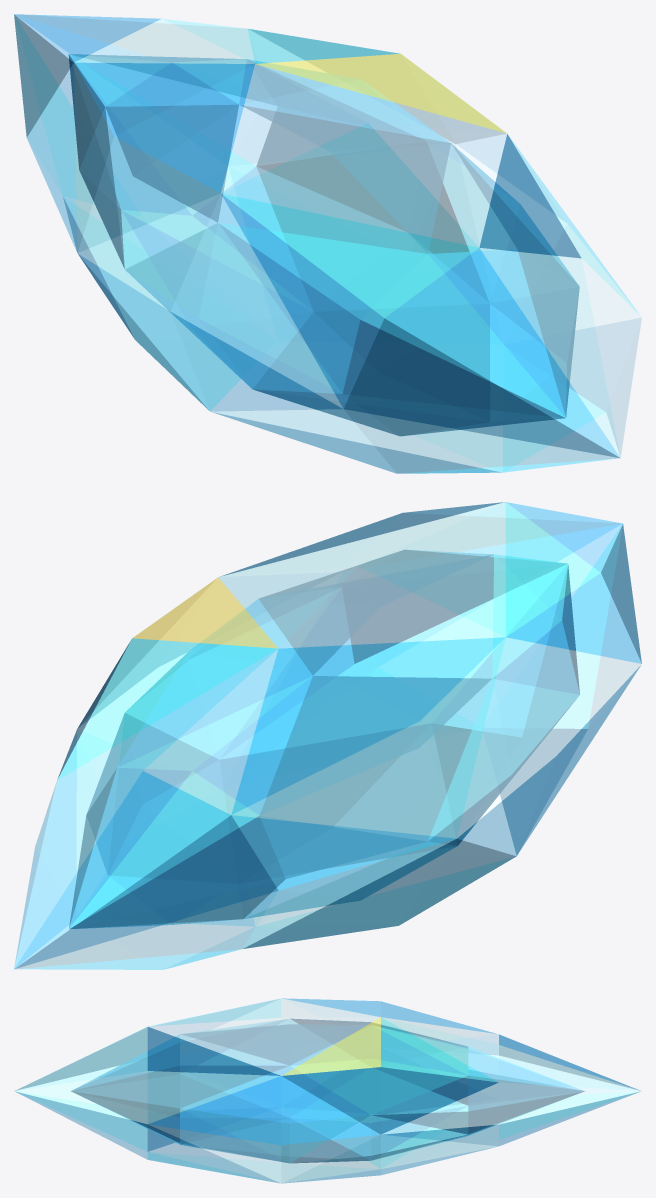
File: lya-crystal.glb
3 views of the same model, one above another, from view 1: azimuth 30°, elevation 25°; view 2: azimuth 150°, elevation 25°; view 3: azimuth 270°, elevation 25° (orthographic). The views are drawn at different scales.
Parts seen in each view (by area): view 1: LYA Crystal; view 2: LYA Crystal; view 3: LYA Crystal.
Part boxes in pixels (left/top/right/bottom): LYA Crystal: left=14, top=14, right=641, bottom=473; LYA Crystal: left=14, top=502, right=641, bottom=969; LYA Crystal: left=14, top=998, right=641, bottom=1183.
Bounding box in the file's own units: 1.53 × 1.06 × 4.04.
